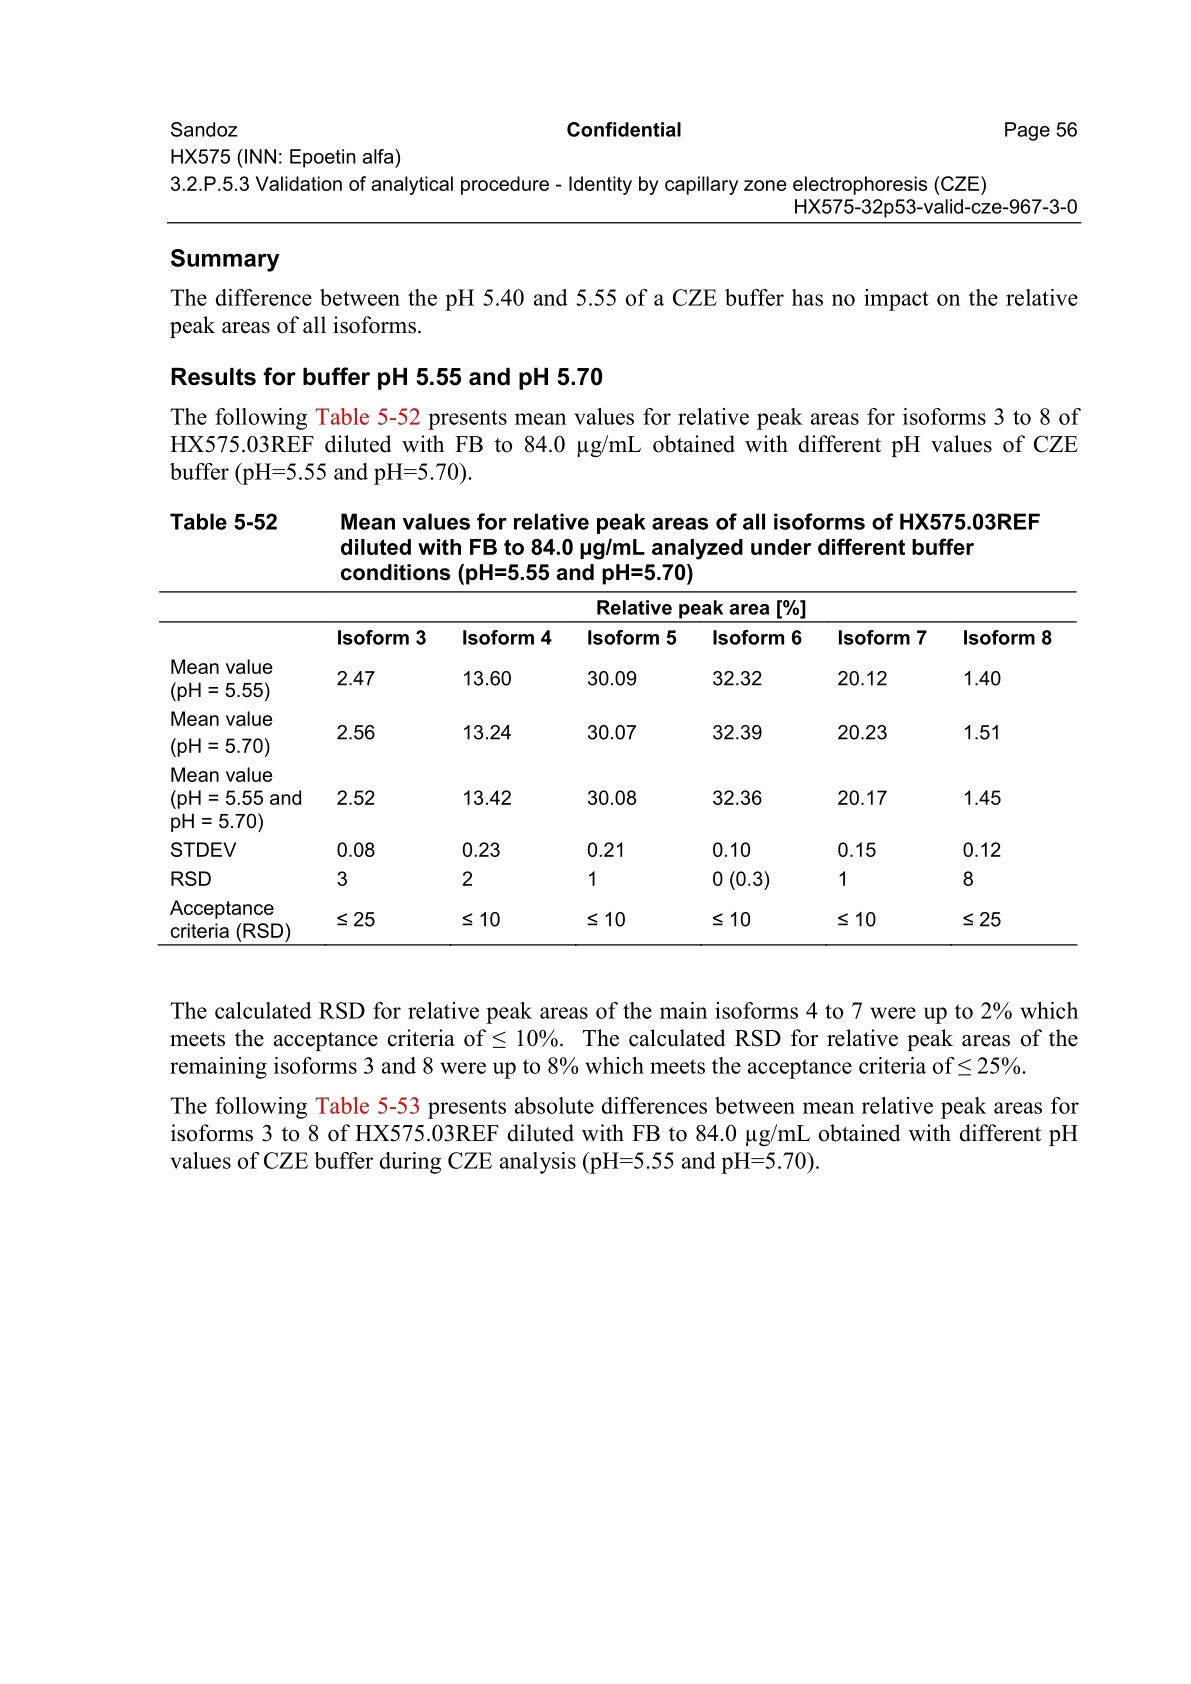partial_lined_merged_cells: (157, 589, 1080, 946)
